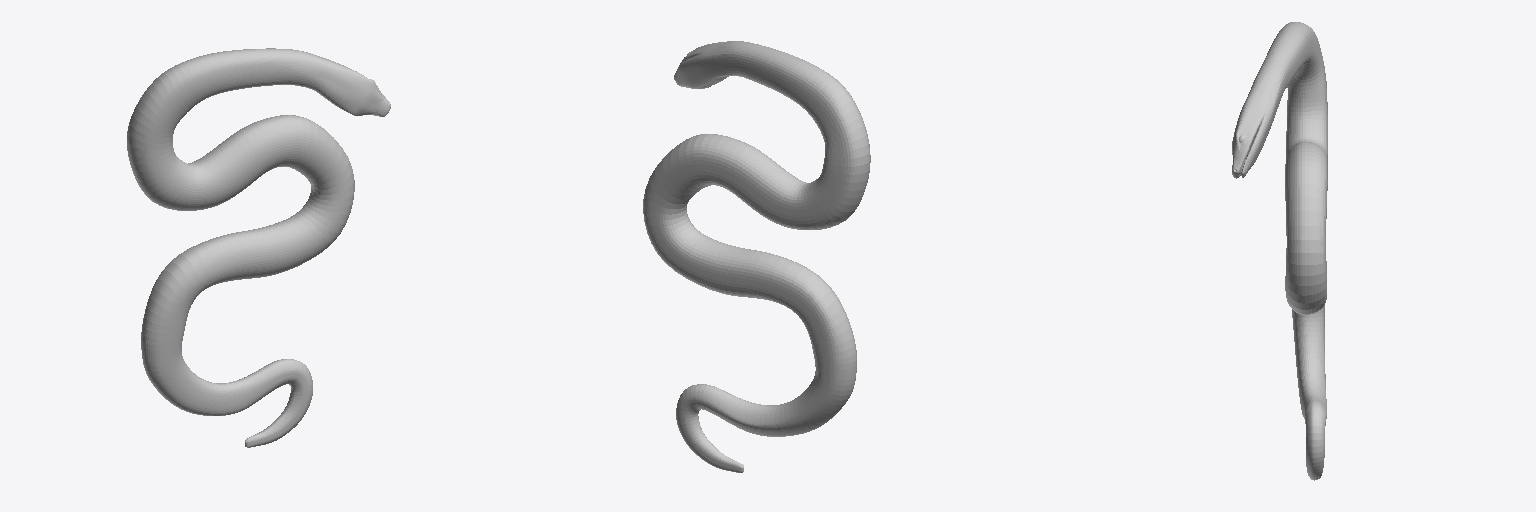
File: boa.obj
3 views of the same model, side by side, from view 1: azimuth 30°, elevation 25°; view 2: azimuth 150°, elevation 25°; view 3: azimuth 270°, elevation 25° (orthographic).
Visible parts, largest first — view 1: 10049_BoaConstrictor_v04; view 2: 10049_BoaConstrictor_v04; view 3: 10049_BoaConstrictor_v04.
Boxes of the visible parts, <box> form: 10049_BoaConstrictor_v04: <box>127,48,390,447</box>; 10049_BoaConstrictor_v04: <box>643,41,870,472</box>; 10049_BoaConstrictor_v04: <box>1232,22,1327,480</box>.
Bounding box in the file's own units: 58.17 × 102 × 21.41.